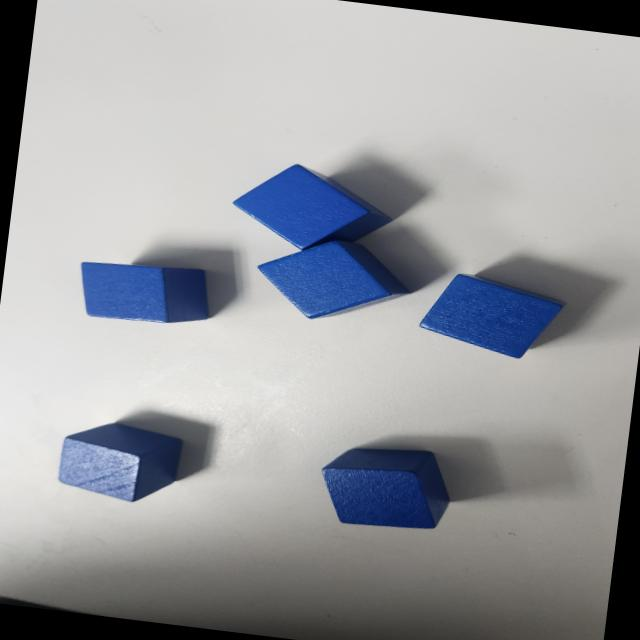blue: (228, 156, 399, 262), (251, 230, 414, 330), (414, 269, 566, 364), (314, 438, 454, 536), (55, 416, 186, 509), (74, 254, 214, 332)
